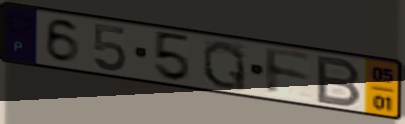5: (151, 30, 194, 83), (92, 22, 129, 73)
6: (44, 18, 82, 65)
B: (314, 54, 365, 109)
F: (262, 45, 314, 98)
Q: (201, 39, 249, 93)
